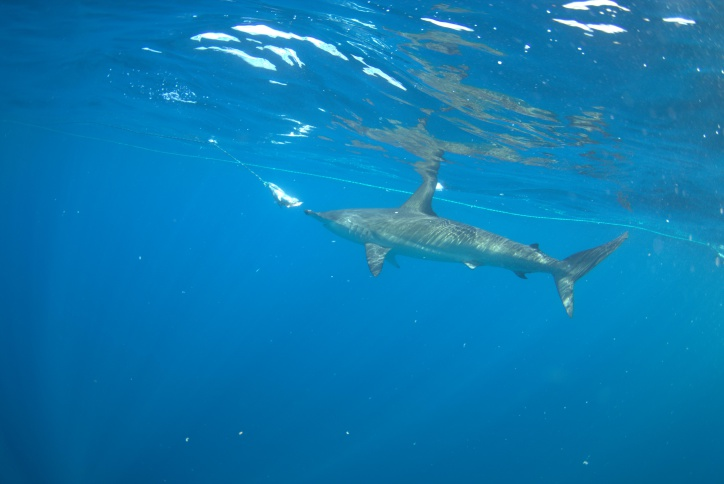Hammer: (348, 191, 570, 288)
